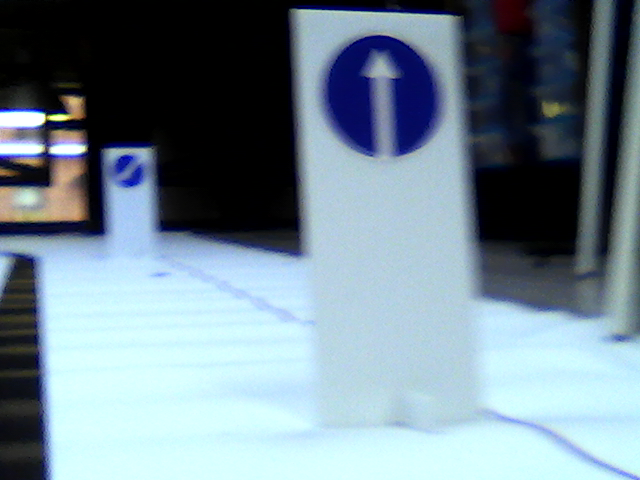prep: (111, 154, 146, 186)
